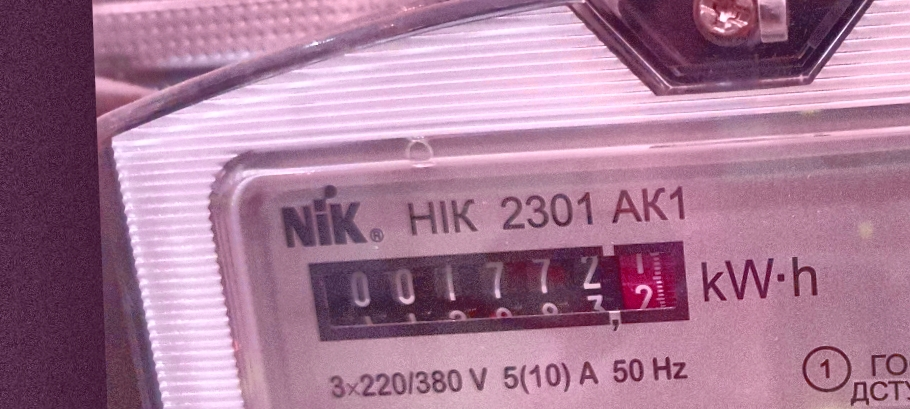0: (344, 267, 373, 308), (392, 265, 416, 305)
1: (440, 262, 458, 302), (632, 251, 646, 277)
2: (578, 254, 602, 291), (630, 281, 654, 310)
3: (584, 292, 606, 314)
7: (483, 259, 507, 301), (529, 256, 552, 295)
screen: (296, 229, 706, 353)
